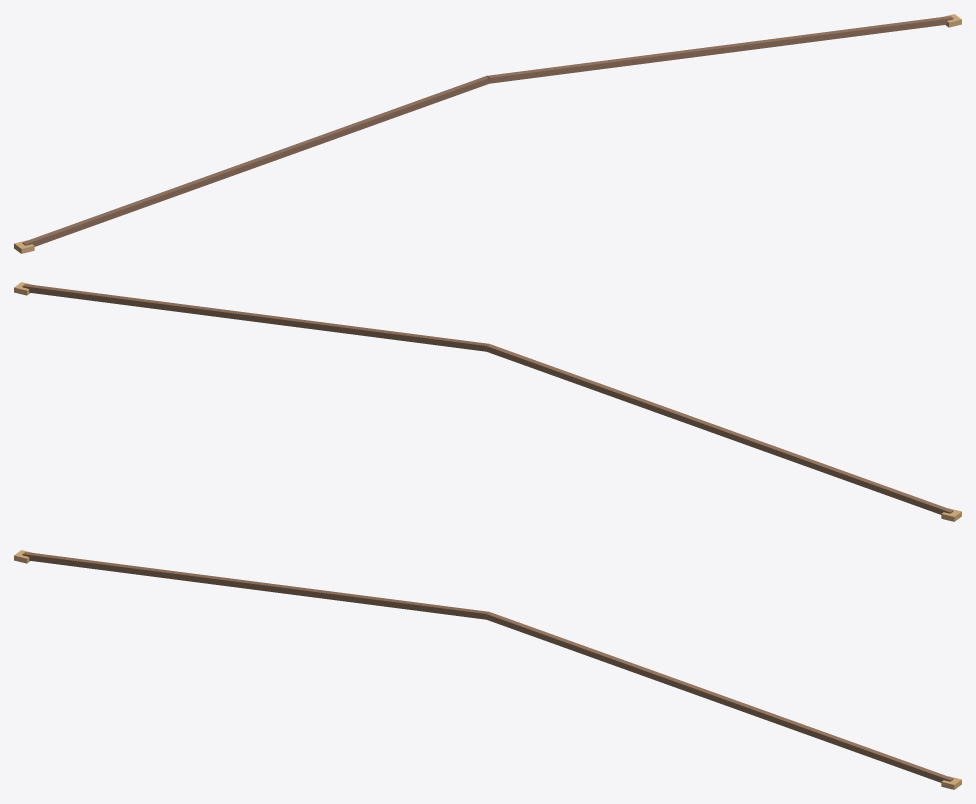
The model's file is roof-rafter-z-01764.glb.
3 renders of one model, top to bottom at view 1: azimuth 30°, elevation 25°; view 2: azimuth 150°, elevation 25°; view 3: azimuth 330°, elevation 25°, orthographic.
Visible parts, largest first — view 1: piece0, piece2; view 2: piece0, piece2; view 3: piece2, piece0.
Part boxes in pixels (bbox=[...]): piece0: bbox=[22, 76, 489, 246]; piece2: bbox=[487, 16, 953, 83]; piece0: bbox=[486, 344, 953, 514]; piece2: bbox=[22, 284, 488, 351]; piece2: bbox=[486, 612, 953, 782]; piece0: bbox=[22, 552, 488, 619].
Bounding box in the file's own units: 43.4 × 2.62 × 0.6.
